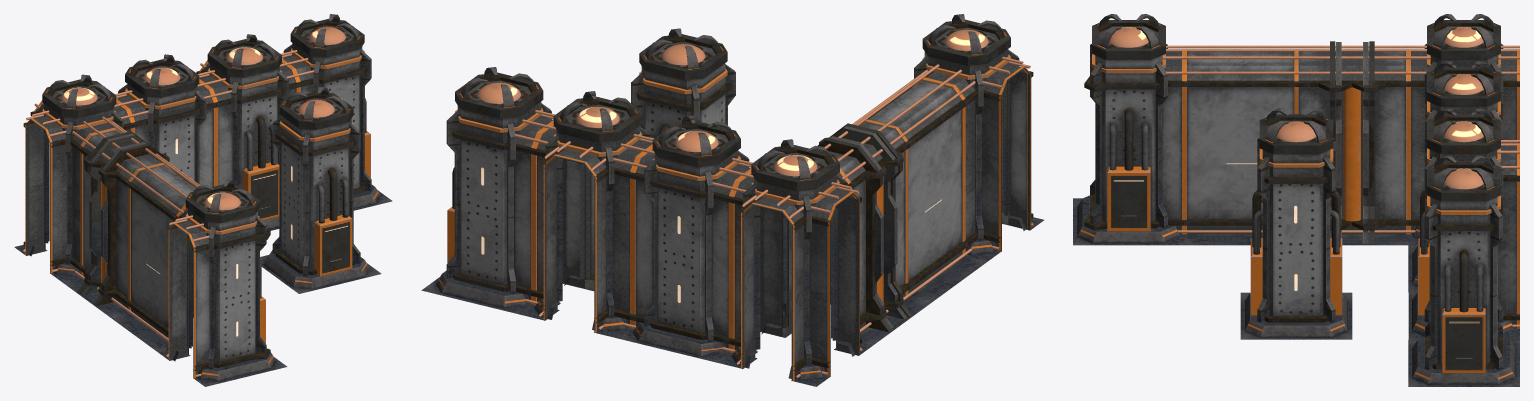
3 renders of one model, left to right at view 1: azimuth 30°, elevation 25°; view 2: azimuth 150°, elevation 25°; view 3: azimuth 270°, elevation 25°, orthographic. The views are drawn at different scales.
Parts seen in each view (by area): view 1: wall_single_main_pillar_low_83, wall_corner_main_pillar_low_24, wall_base02_low_15, wall_cross_wall_base_01_low_61, wall_corner_wall_base_02_low_31, wall_end_main_pillar_low_112, wall_base_low_5, wall_straight_main_pillar_low_97, wall_end_main_pillar_low.001_66, wall_outer_frame_low_3, wall_corner_pillar_outer_frame_low_26, wall_single_pillar_outer_frame_low_84 (+50 smaller); view 2: wall_cross_wall_base_01_low_61, wall_base02_low_15, wall_end_main_pillar_low.001_66, wall_straight_main_pillar_low_97, wall_corner_wall_base_02_low_31, wall_end_wall_base_02_low_123, wall_straight_wall_base_low_105, wall_cross_wall_base_02_low_62, wall_end_wall_base_01_low_119, wall_cross_pillar_outer_frame_low_52, wall_end_main_pillar_low_112, wall_outer_frame_low_3 (+44 smaller); view 3: wall_base02_low_15, wall_single_main_pillar_low_83, wall_base_low_5, wall_end_main_pillar_low.001_66, wall_corner_main_pillar_low_24, wall_cross_wall_base_02_low_62, wall_end_pillar_outer_frame_low.001_68, wall_corner_wall_base_01_low_35, wall_single_pillar_outer_frame_low_84, wall_corner_pipebox_low_38, wall_corner_pillar_outer_frame_low_26, wall_end_pipebox_low.001_76 (+54 smaller).
Part boxes in pixels (left/top/right/bottom): wall_single_main_pillar_low_83: left=263, top=98, right=369, bottom=288; wall_corner_main_pillar_low_24: left=173, top=191, right=276, bottom=381; wall_base02_low_15: left=131, top=165, right=195, bottom=338; wall_cross_wall_base_01_low_61: left=26, top=104, right=130, bottom=273; wall_corner_wall_base_02_low_31: left=169, top=221, right=210, bottom=378; wall_end_main_pillar_low_112: left=210, top=45, right=279, bottom=229; wall_base_low_5: left=83, top=130, right=160, bottom=308; wall_straight_main_pillar_low_97: left=127, top=65, right=197, bottom=180; wall_end_main_pillar_low.001_66: left=292, top=25, right=380, bottom=208; wall_outer_frame_low_3: left=81, top=133, right=146, bottom=303; wall_corner_pillar_outer_frame_low_26: left=178, top=209, right=266, bottom=369; wall_single_pillar_outer_frame_low_84: left=272, top=117, right=360, bottom=276; wall_cross_wall_base_01_low_61: left=734, top=174, right=859, bottom=376; wall_base02_low_15: left=869, top=80, right=961, bottom=293; wall_end_main_pillar_low.001_66: left=435, top=80, right=541, bottom=308; wall_straight_main_pillar_low_97: left=632, top=128, right=738, bottom=356; wall_corner_wall_base_02_low_31: left=981, top=63, right=1030, bottom=251; wall_end_wall_base_02_low_123: left=537, top=126, right=651, bottom=324; wall_straight_wall_base_low_105: left=635, top=150, right=760, bottom=351; wall_cross_wall_base_02_low_62: left=742, top=173, right=841, bottom=380; wall_end_wall_base_01_low_119: left=544, top=148, right=606, bottom=332; wall_cross_pillar_outer_frame_low_52: left=743, top=175, right=847, bottom=365; wall_end_main_pillar_low_112: left=534, top=104, right=639, bottom=332; wall_outer_frame_low_3: left=829, top=126, right=907, bottom=329; wall_base02_low_15: left=1187, top=51, right=1294, bottom=233; wall_single_main_pillar_low_83: left=1245, top=120, right=1347, bottom=337; wall_base_low_5: left=1298, top=51, right=1405, bottom=233; wall_end_main_pillar_low.001_66: left=1412, top=168, right=1515, bottom=384; wall_corner_main_pillar_low_24: left=1077, top=26, right=1180, bottom=243; wall_cross_wall_base_02_low_62: left=1411, top=51, right=1516, bottom=233; wall_end_pillar_outer_frame_low.001_68: left=1425, top=185, right=1502, bottom=369; wall_corner_wall_base_01_low_35: left=1162, top=51, right=1181, bottom=233; wall_single_pillar_outer_frame_low_84: left=1257, top=138, right=1335, bottom=322; wall_corner_pipebox_low_38: left=1107, top=166, right=1150, bottom=231; wall_corner_pillar_outer_frame_low_26: left=1090, top=44, right=1167, bottom=228; wall_end_pipebox_low.001_76: left=1442, top=308, right=1485, bottom=372.
Size of the model in its own units: 8 by 3.97 by 8.
8 materials, 8 textured.
